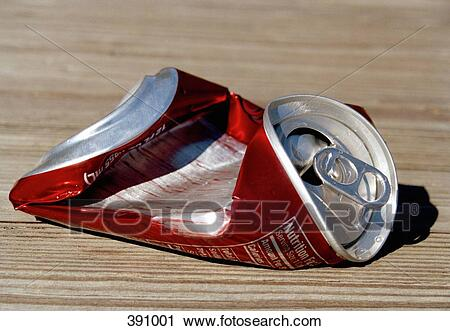can: (8, 66, 399, 270)
